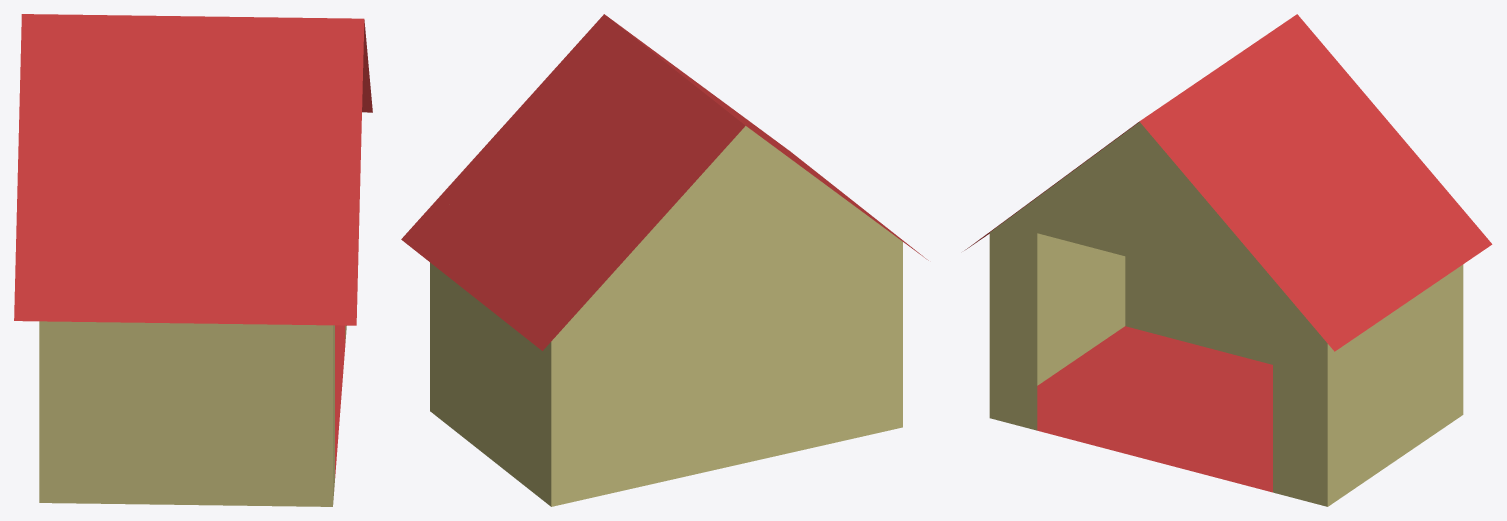
The picture shows the model from 3 angles, left to right: view 1: azimuth 30°, elevation 25°; view 2: azimuth 150°, elevation 25°; view 3: azimuth 270°, elevation 25°; orthographic projection. The views are drawn at different scales.
Visible parts, largest first — view 1: group_3, group_5, group_4, group_6; view 2: group_5, group_3, group_4; view 3: group_5, group_3, group_6, group_4.
Part boxes in pixels (x1,y1,x2,y2): group_3: (14,14,372,325); group_5: (39,321,346,506); group_4: (14,14,354,325); group_6: (335,325,345,477); group_5: (430,126,902,506); group_3: (430,14,898,350); group_4: (401,15,928,349); group_5: (989,122,1463,506); group_3: (976,14,1492,349); group_6: (1037,326,1272,492); group_4: (964,121,1490,351).
Size of the model in its own units: 17.11 by 18.71 by 13.45.
